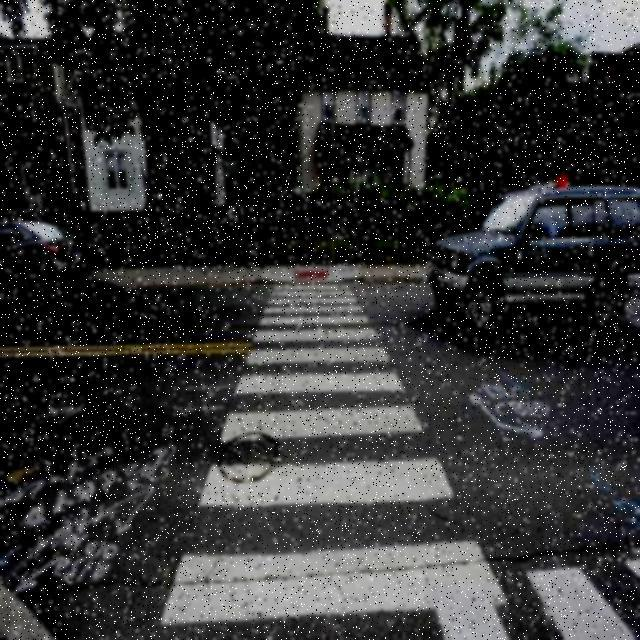crosswalk: (155, 270, 511, 639)
